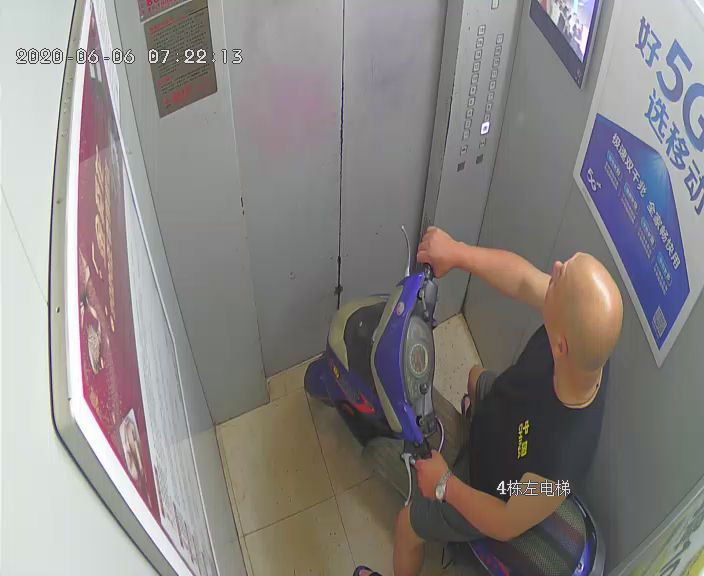Electric-bicycle: (304, 262, 607, 575)
